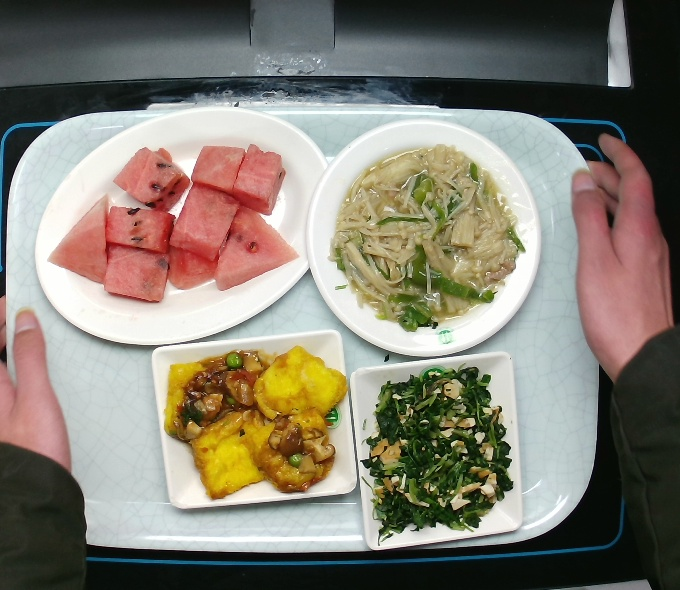wcq-JinZhenGu: (324, 139, 531, 339)
wcq-MaLanTouChaoDouGan: (357, 362, 517, 546)
wcq-XiGua: (43, 142, 303, 306)
